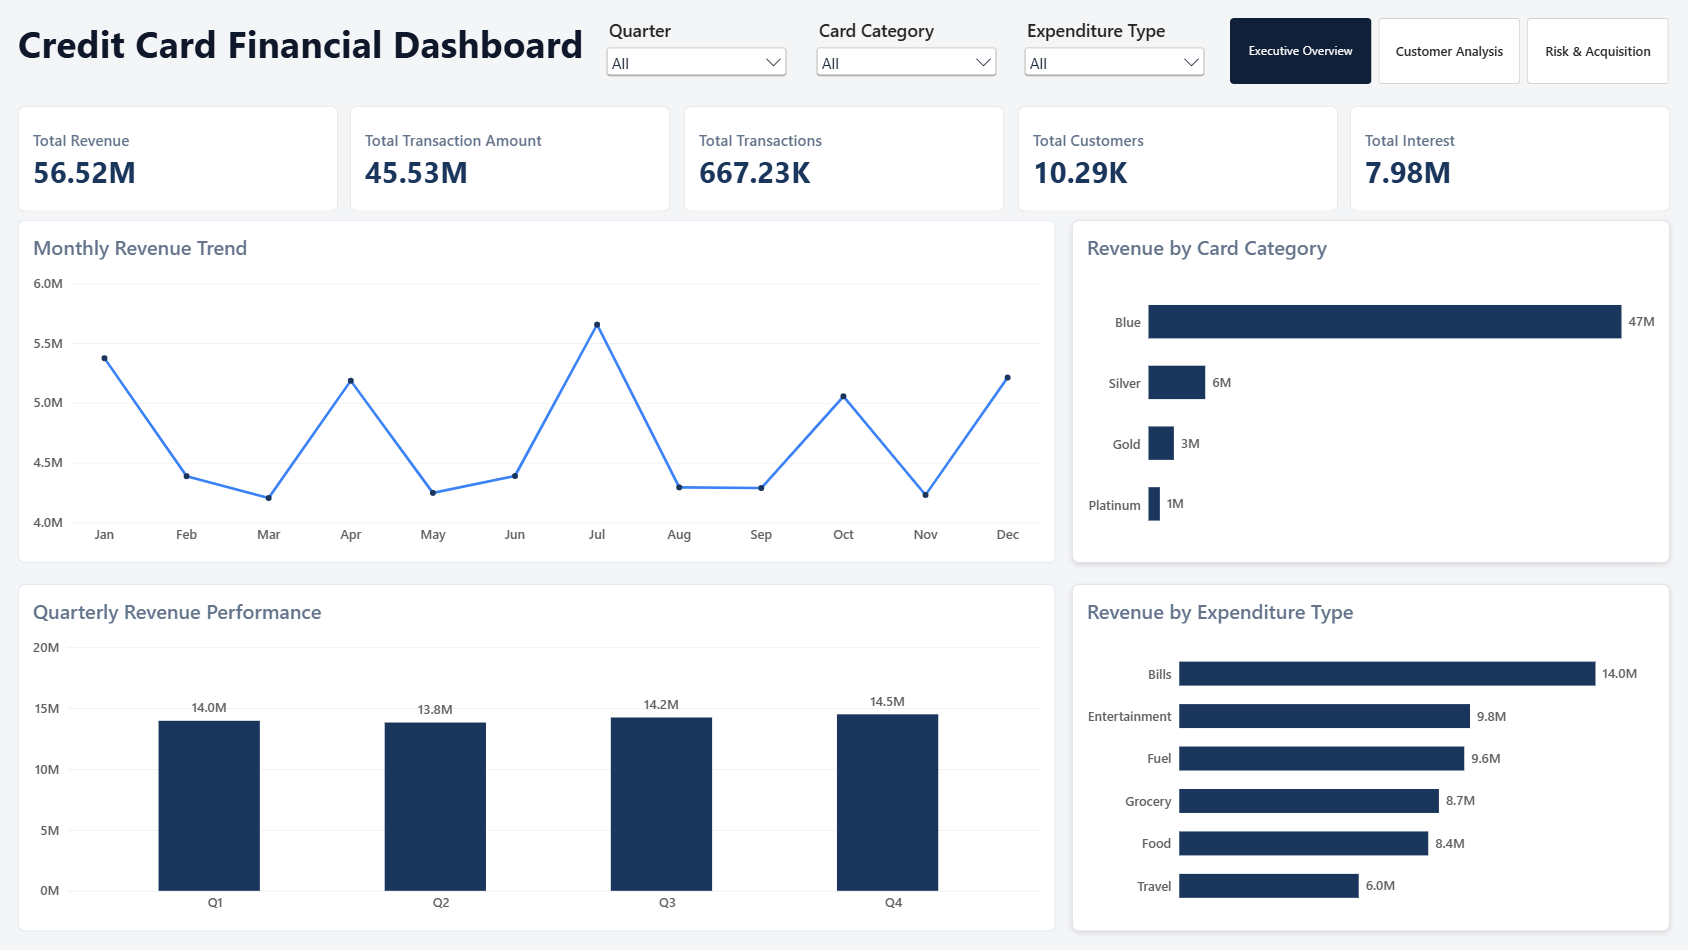

Layout of this report page (visuals, bound fields, positions):
{"tool":"powerbi","page":{"name":"Executive Overview","canvas":[1920,1080],"ordinal":0},"visuals":[{"type":"textbox","box":[20.5,20.5,657.4,84.2],"z":0},{"type":"cardVisual","fields":{"Data":["cc_detail.Total Customers"]},"box":[1157,121.3,364,120],"z":1},{"type":"cardVisual","fields":{"Data":["cc_detail.Total Transactions"]},"box":[778,121.3,364,120],"z":2},{"type":"cardVisual","fields":{"Data":["cc_detail.Total Revenue"]},"box":[20,121.3,364,120],"z":3},{"type":"cardVisual","fields":{"Data":["cc_detail.Total Interest"]},"box":[1536,121.3,364,120],"z":4},{"type":"cardVisual","fields":{"Data":["cc_detail.Total Transaction Amount"]},"box":[399,121.3,364,120],"z":5},{"type":"lineChart","title":"Monthly Revenue Trend","fields":{"Category":["cc_detail.Month Name"],"Y":["cc_detail.Total Revenue"]},"box":[20,250,1180,390],"z":6},{"type":"clusteredBarChart","title":"Revenue by Card Category","fields":{"Category":["cc_detail.Card_Category"],"Y":["Measure(s).Total Revenue"]},"box":[1220,250,680,390],"z":7},{"type":"clusteredBarChart","title":"Revenue by Expenditure Type","fields":{"Category":["cc_detail.Exp_Type"],"Y":["cc_detail.Total Revenue"]},"box":[1220,665,680,395],"z":8},{"type":"clusteredColumnChart","title":"Quarterly Revenue Performance","fields":{"Category":["cc_detail.Qtr"],"Y":["cc_detail.Total Revenue"]},"box":[20,665,1180,395],"z":9},{"type":"slicer","fields":{"Values":["cc_detail.Qtr"]},"box":[685,20,215,75.1],"z":10},{"type":"slicer","fields":{"Values":["cc_detail.Card_Category"]},"box":[922.6,20,215,75],"z":11},{"type":"slicer","fields":{"Values":["cc_detail.Exp_Type"]},"box":[1160.2,20,215,75],"z":12},{"type":"pageNavigator","box":[1400,20,500,75],"z":13}]}

Visuals, with their boxes in screenshot pixels (x1, y1, x2, y2), scaled from the page's 1920x1080 canvas onto the 1688x950 screenshot:
textbox: <region>18, 18, 596, 92</region>
cardVisual - cc_detail.Total Customers: <region>1017, 107, 1337, 212</region>
cardVisual - cc_detail.Total Transactions: <region>684, 107, 1004, 212</region>
cardVisual - cc_detail.Total Revenue: <region>18, 107, 338, 212</region>
cardVisual - cc_detail.Total Interest: <region>1350, 107, 1670, 212</region>
cardVisual - cc_detail.Total Transaction Amount: <region>351, 107, 671, 212</region>
"Monthly Revenue Trend" lineChart: <region>18, 220, 1055, 563</region>
"Revenue by Card Category" clusteredBarChart: <region>1073, 220, 1670, 563</region>
"Revenue by Expenditure Type" clusteredBarChart: <region>1073, 585, 1670, 932</region>
"Quarterly Revenue Performance" clusteredColumnChart: <region>18, 585, 1055, 932</region>
slicer - cc_detail.Qtr: <region>602, 18, 791, 84</region>
slicer - cc_detail.Card_Category: <region>811, 18, 1000, 84</region>
slicer - cc_detail.Exp_Type: <region>1020, 18, 1209, 84</region>
pageNavigator: <region>1231, 18, 1670, 84</region>
